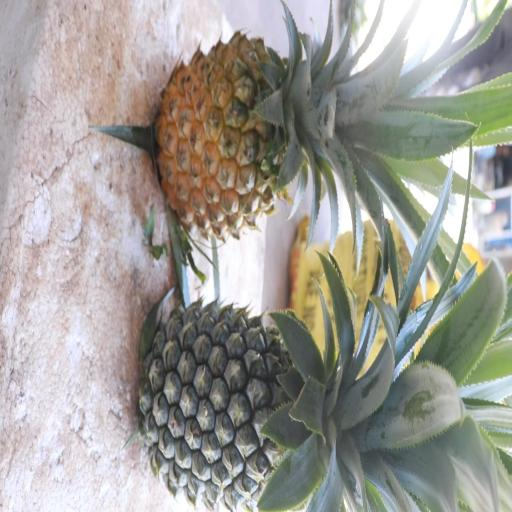Pineapple - v8 v1: (156, 35, 422, 243)
